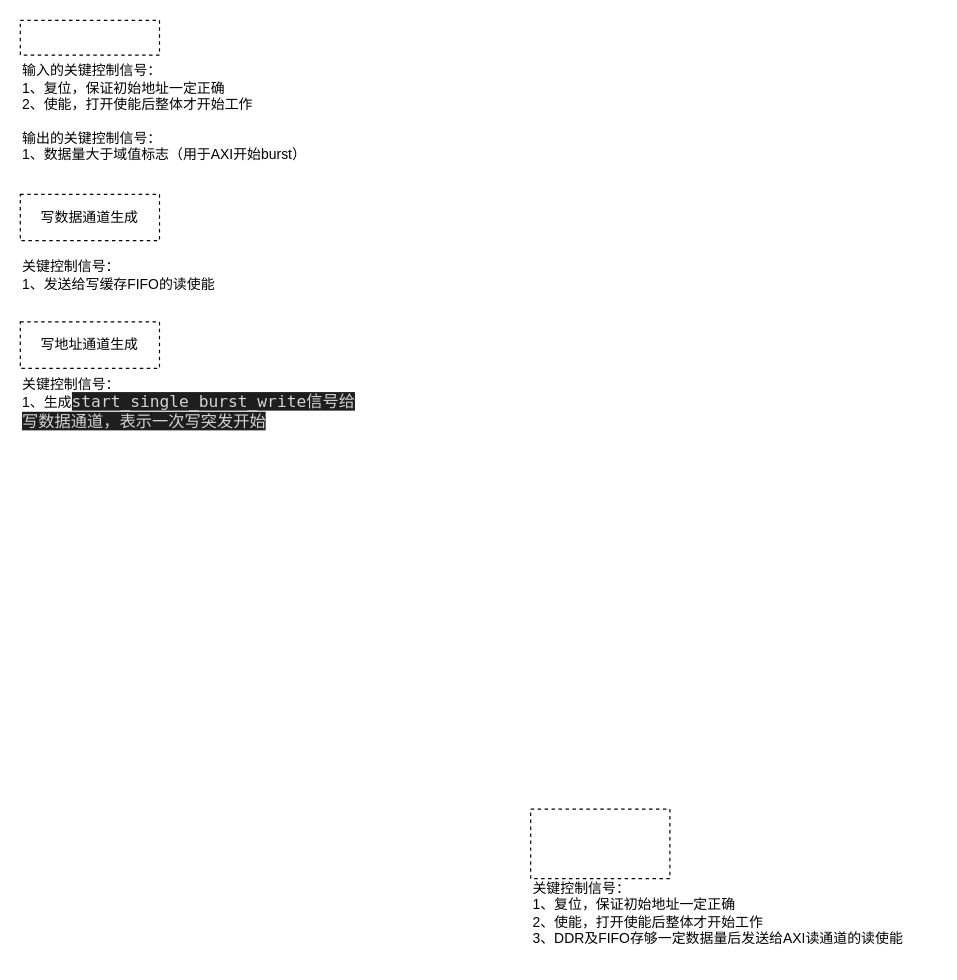
The diagram is 957 pixels wide and 980 high, and some of its shapes have lost their labels. The shapes that lost their labels are listed below. From the top down, each one's centre as x and y in pixels, then its label:
At (x=89, y=37): "写FIFO".
At (x=600, y=843): "写入数据量及读控制".
